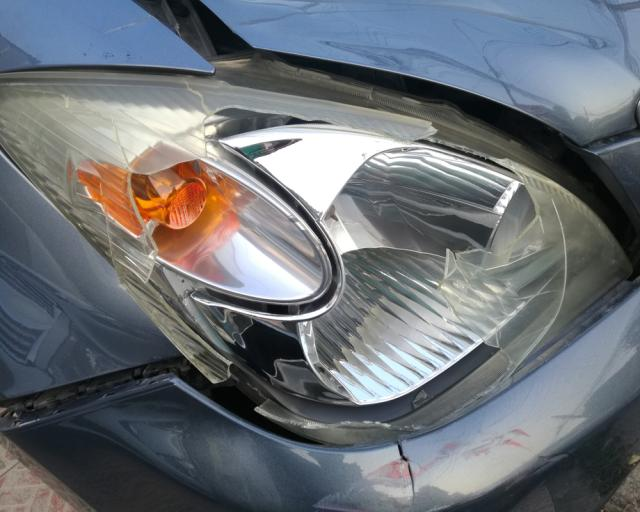crack: (395, 442, 416, 502)
lamp broken: (0, 70, 634, 446)
scratch: (307, 416, 573, 512)
